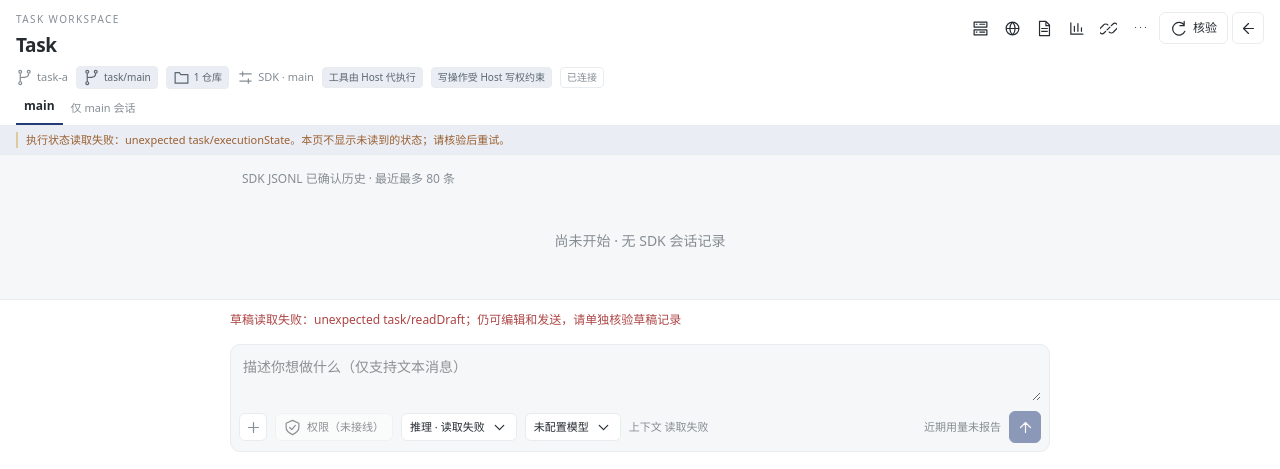
Test: [UI 对齐] S8d tool panels are on-demand and close-only › toggles a panel shut with the same tool button without breaking the session
The width and height of the screenshot is (1280, 469).
Expected: the text "仅 main 会话" is shown, [67, 100, 135, 124]
Click the button named "协议": click(1109, 28) [1095, 14, 1123, 42]
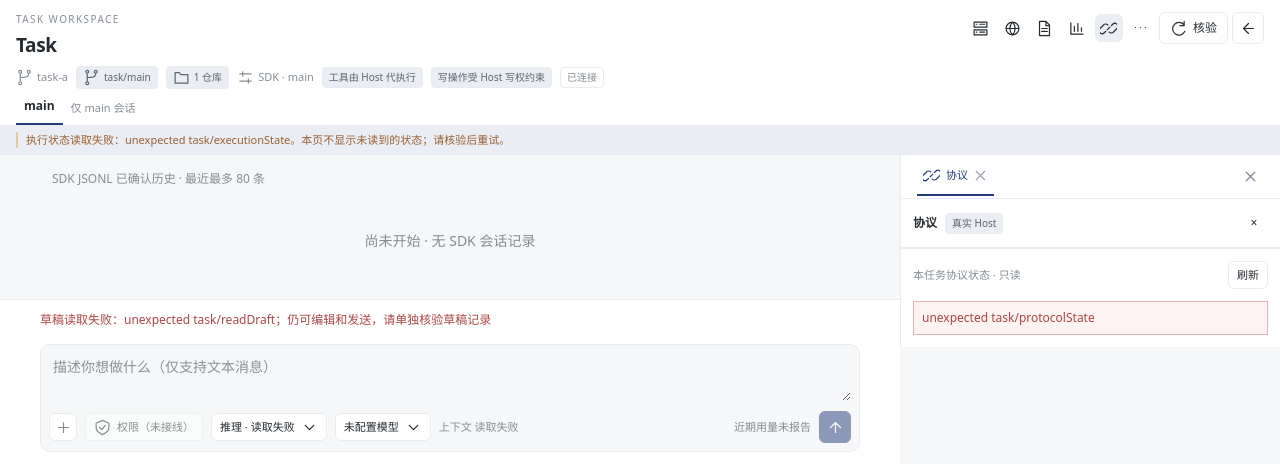
Click the button named "协议": click(1109, 28) [1095, 14, 1123, 42]
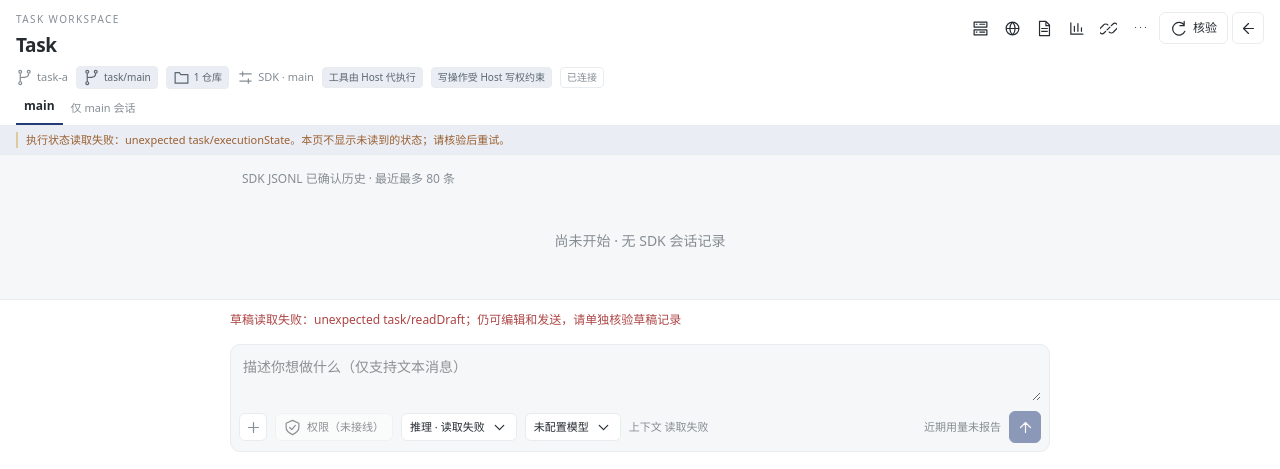
Now the element with test id "desktop-tool-dock" is gone
